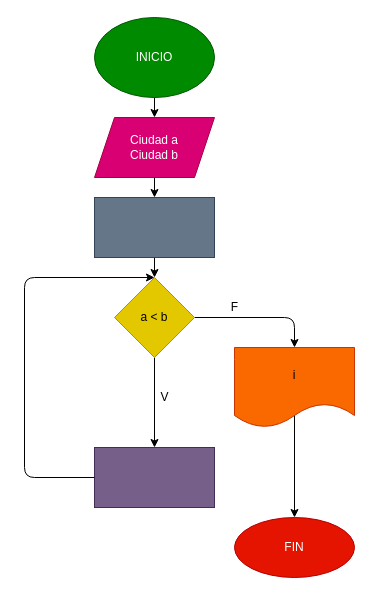
Some shapes in this 372 by 595 pixel diagram are drawn without their labels. Each missing label, with the box of its shape:
a * 0.07 b * 0.05 i = i + 1: (94, 446, 214, 508)
i = i + 1: (94, 196, 214, 258)
